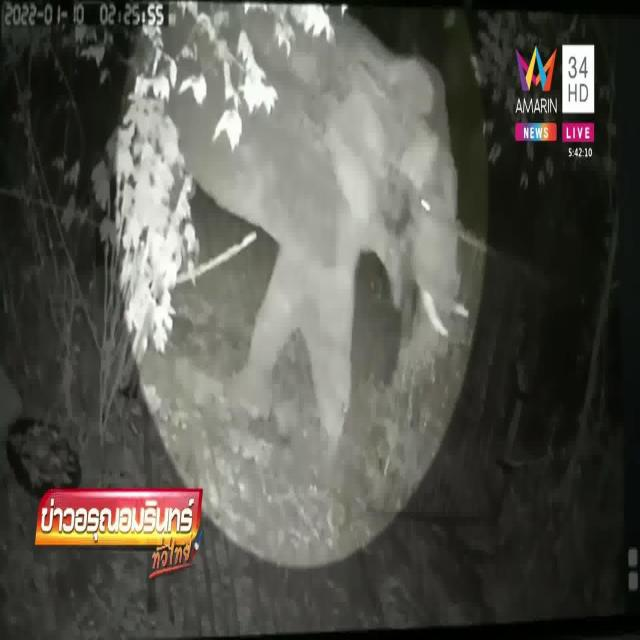Elephant: (226, 19, 463, 375)
